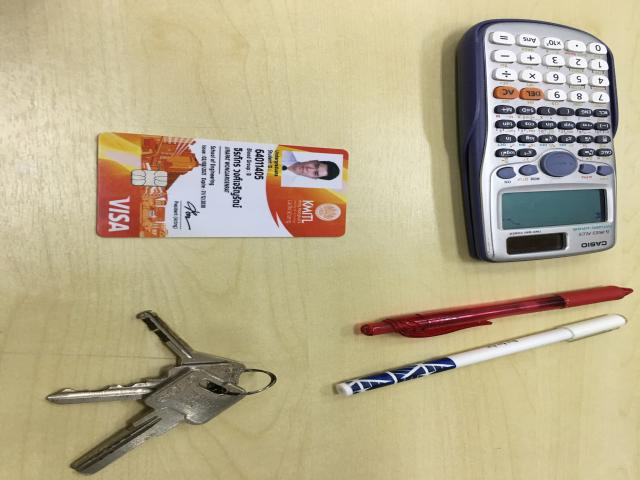Keys: (46, 312, 277, 476)
Pen: (326, 311, 629, 397), (354, 287, 635, 340)
